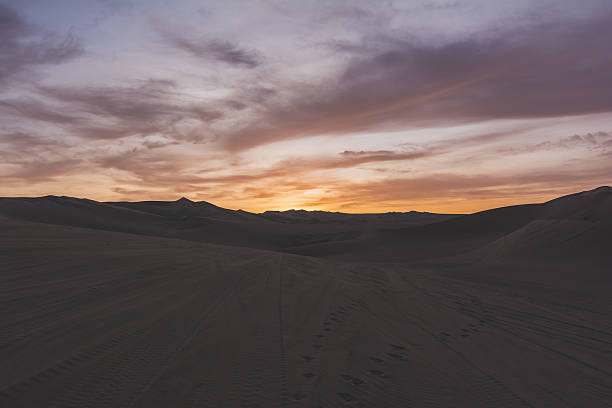human_footprint: (437, 320, 485, 342), (386, 343, 415, 359), (340, 374, 364, 384), (337, 392, 357, 402), (368, 369, 386, 377), (291, 392, 306, 401), (386, 352, 405, 359), (389, 344, 406, 350), (370, 356, 384, 362), (302, 372, 316, 378), (301, 354, 314, 360), (312, 343, 322, 349), (314, 334, 323, 338)
